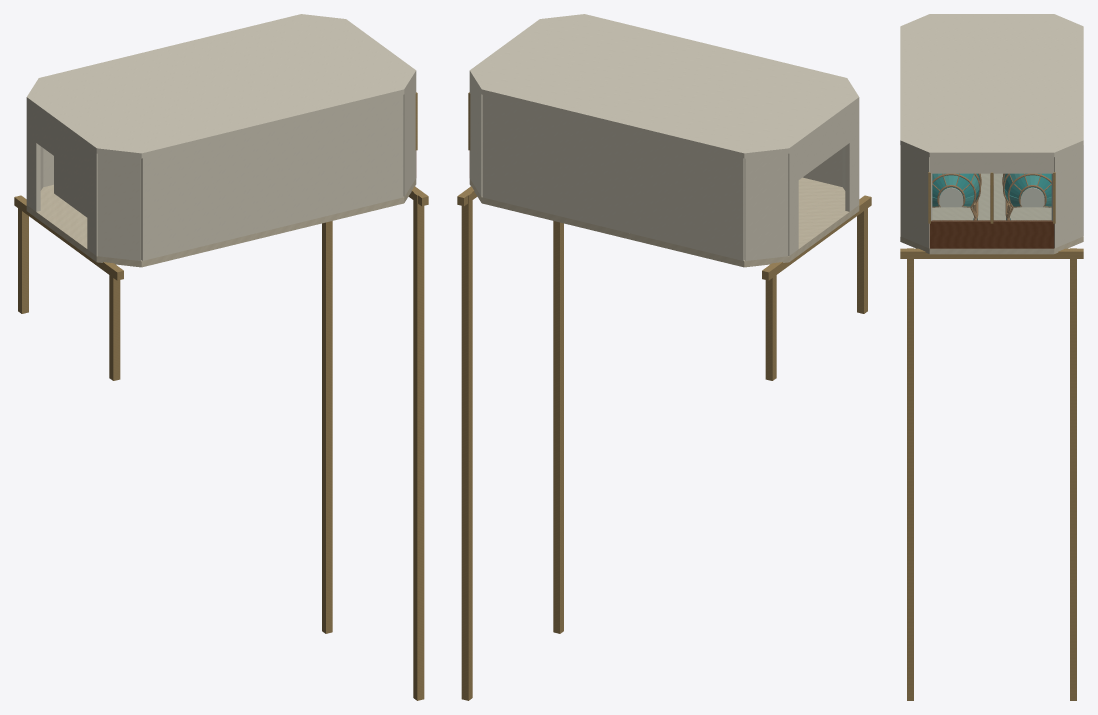
Rendered from D04_STARBOARD_FORWARD_HOME_979_r001.glb.
3 renders of one model, left to right at view 1: azimuth 30°, elevation 25°; view 2: azimuth 150°, elevation 25°; view 3: azimuth 270°, elevation 25°, orthographic. The views are drawn at different scales.
Parts seen in each view (by area): view 1: D04SH979_Roof, D04SH979_Shell_3, D04SH979_Pier_2, D04SH979_Shell_4, D04SH979_Pier_1, D04SH979_Floor, D04SH979_EntryHeader, D04SH979_EntryWall_0, D04SH979_Shell_2, D04SH979_BathDogleg, D04SH979_Pier_4, D04SH979_Pier_3 (+2 smaller); view 2: D04SH979_Roof, D04SH979_Shell_7, D04SH979_Pier_1, D04SH979_Floor, D04SH979_Shell_6, D04SH979_Pier_2, D04SH979_EntryHeader, D04SH979_EntryWall_1, D04SH979_Shell_0, D04SH979_Pier_3, D04SH979_Pier_4, D04SH979_EntryWall_0 (+2 smaller); view 3: D04SH979_Roof, D04SH979_GardenGlass, D04SH979_GardenDado, D04SH979_Floor, D04SH979_Pier_1, D04SH979_Pier_2, D04SH979_Shell_0, D04SH979_Shell_2, D04SH979_GardenHead, D04SH979_Long_-58.650000000000006, D04SH979_ReservedCocoon_1__Rear ivory acoustic diffuser, D04SH979_ReservedCocoon_2__Rear ivory acoustic diffuser.
Boxes of the visible parts, x1=… form: D04SH979_Roof: x1=26, y1=14, x2=416, y2=158; D04SH979_Shell_3: x1=141, y1=95, x2=403, y2=260; D04SH979_Pier_2: x1=413, y1=191, x2=424, y2=700; D04SH979_Shell_4: x1=97, y1=153, x2=141, y2=260; D04SH979_Pier_1: x1=322, y1=221, x2=332, y2=633; D04SH979_Floor: x1=26, y1=178, x2=416, y2=267; D04SH979_EntryHeader: x1=36, y1=109, x2=87, y2=179; D04SH979_EntryWall_0: x1=26, y1=102, x2=40, y2=211; D04SH979_Shell_2: x1=403, y1=76, x2=415, y2=196; D04SH979_BathDogleg: x1=54, y1=156, x2=87, y2=217; D04SH979_Pier_4: x1=109, y1=265, x2=120, y2=380; D04SH979_Pier_3: x1=18, y1=198, x2=28, y2=313; D04SH979_Roof: x1=469, y1=14, x2=859, y2=158; D04SH979_Shell_7: x1=482, y1=95, x2=744, y2=260; D04SH979_Pier_1: x1=461, y1=191, x2=472, y2=700; D04SH979_Floor: x1=469, y1=177, x2=859, y2=267; D04SH979_Shell_6: x1=744, y1=153, x2=788, y2=260; D04SH979_Pier_2: x1=553, y1=221, x2=563, y2=633; D04SH979_EntryHeader: x1=798, y1=109, x2=849, y2=179; D04SH979_EntryWall_1: x1=845, y1=102, x2=859, y2=211; D04SH979_Shell_0: x1=470, y1=76, x2=482, y2=196; D04SH979_Pier_3: x1=765, y1=265, x2=776, y2=380; D04SH979_Pier_4: x1=857, y1=198, x2=867, y2=313; D04SH979_EntryWall_0: x1=788, y1=147, x2=798, y2=255; D04SH979_Roof: x1=900, y1=14, x2=1083, y2=157; D04SH979_GardenGlass: x1=932, y1=174, x2=1051, y2=221; D04SH979_GardenDado: x1=929, y1=220, x2=1054, y2=248; D04SH979_Floor: x1=900, y1=173, x2=1083, y2=254; D04SH979_Pier_1: x1=1070, y1=248, x2=1076, y2=700; D04SH979_Pier_2: x1=907, y1=248, x2=913, y2=700; D04SH979_Shell_0: x1=1051, y1=145, x2=1082, y2=248; D04SH979_Shell_2: x1=901, y1=145, x2=932, y2=248; D04SH979_GardenHead: x1=929, y1=157, x2=1054, y2=173; D04SH979_Long_-58.650000000000006: x1=900, y1=248, x2=1083, y2=258; D04SH979_ReservedCocoon_1__Rear ivory acoustic diffuser: x1=1020, y1=187, x2=1044, y2=207; D04SH979_ReservedCocoon_2__Rear ivory acoustic diffuser: x1=939, y1=187, x2=963, y2=207.
Size of the model in its own units: 12.92 by 23.86 by 7.2.
45 materials, 21 textured.
